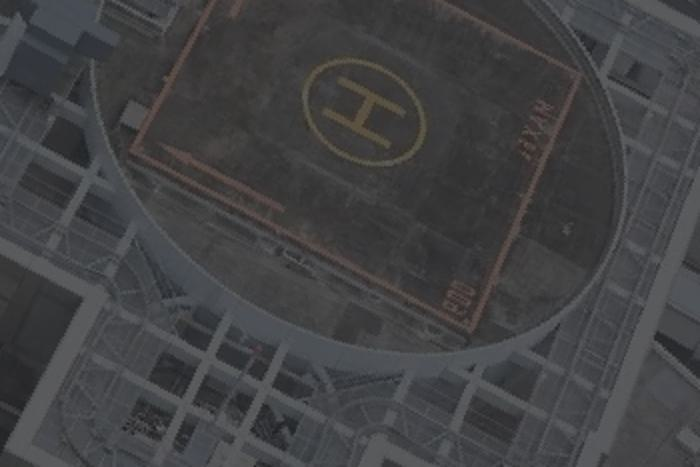Apron: (292, 56, 444, 177)
